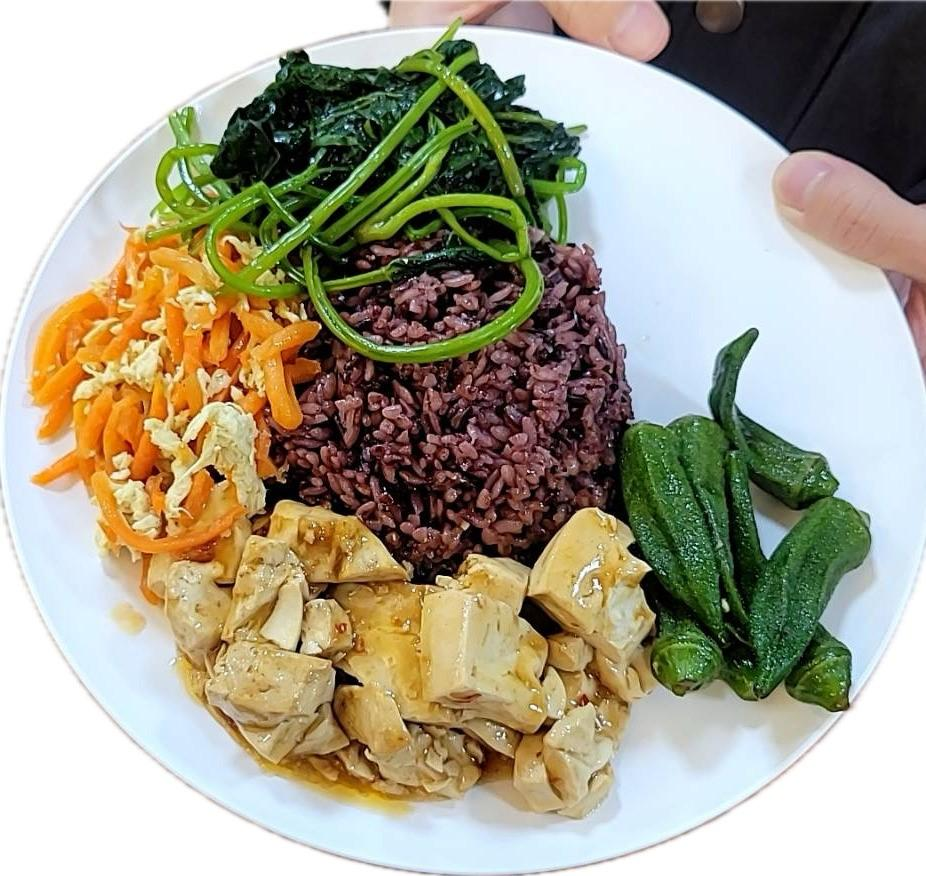big fried chicken leg: (14, 16, 926, 876)
braised fish: (284, 222, 635, 568)
braised fish fillet: (148, 504, 649, 814), (150, 40, 588, 355), (620, 320, 878, 712), (20, 222, 302, 578)
